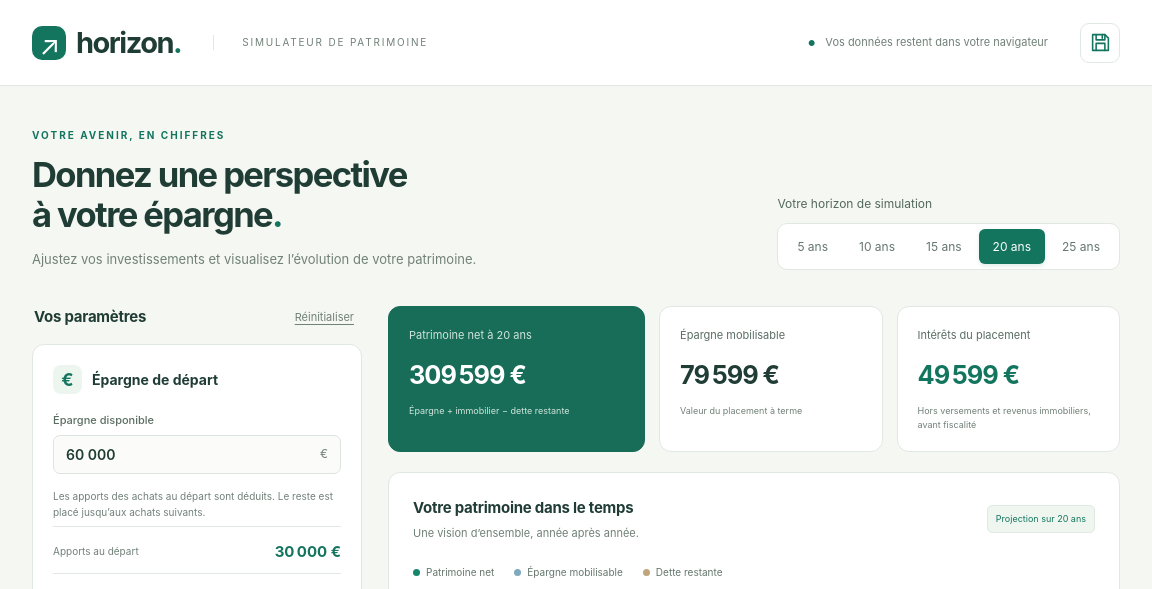
Test: App › switches the simulation to 5 years
Step 1. Click the button "5 ans" → [813, 246], box [783,229,842,264]
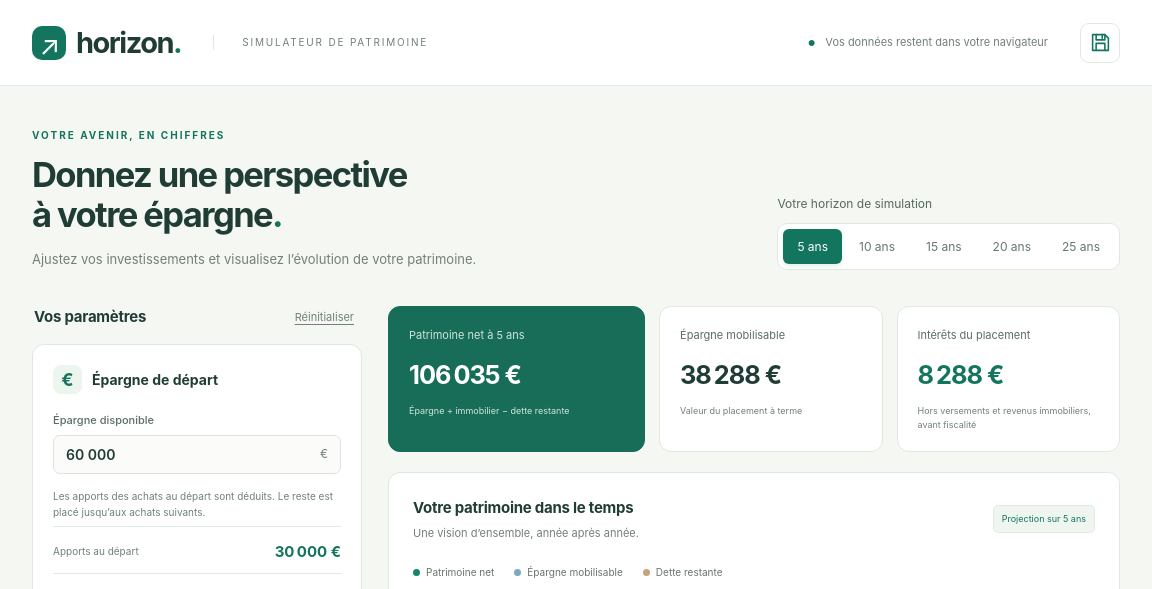
Now the text "Patrimoine net à 5 ans" is shown, box [409,328,525,342]
